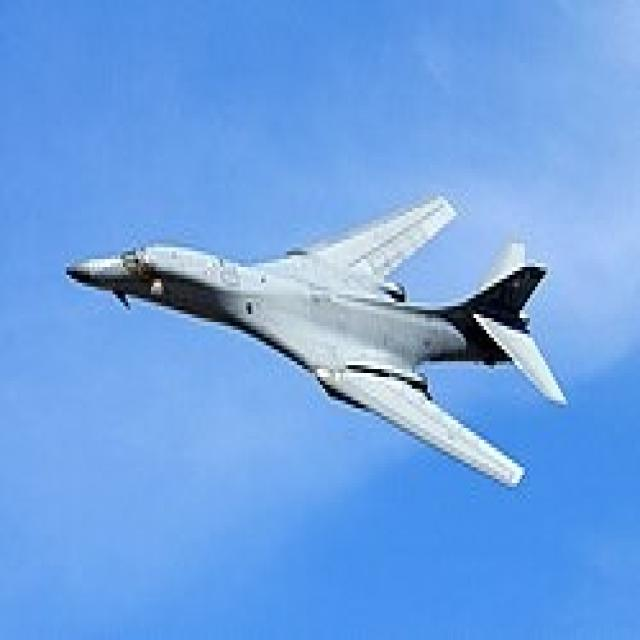B1: (52, 187, 578, 522)
